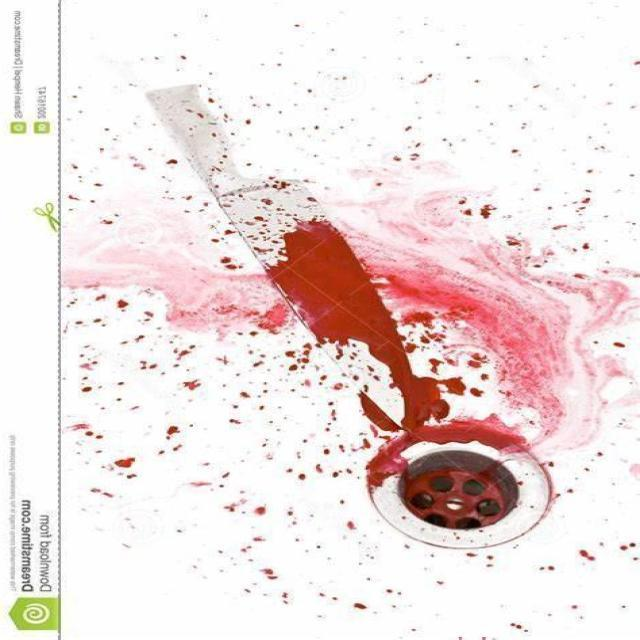flood: (162, 157, 584, 553)
